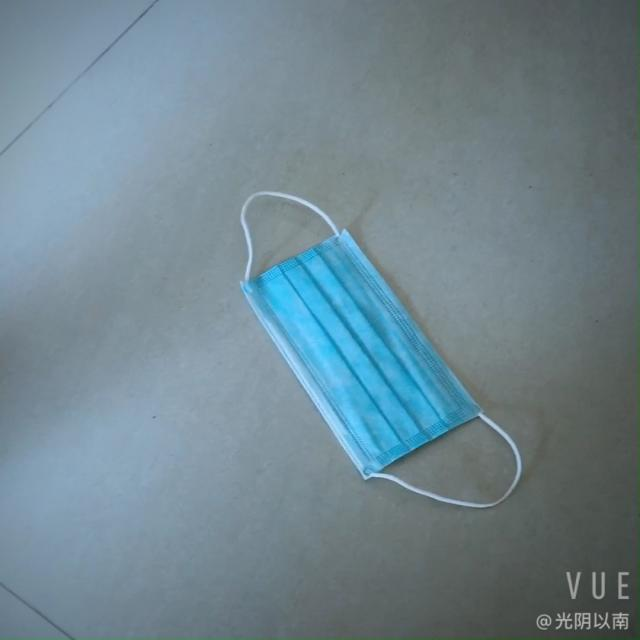face mask: (226, 217, 483, 478)
